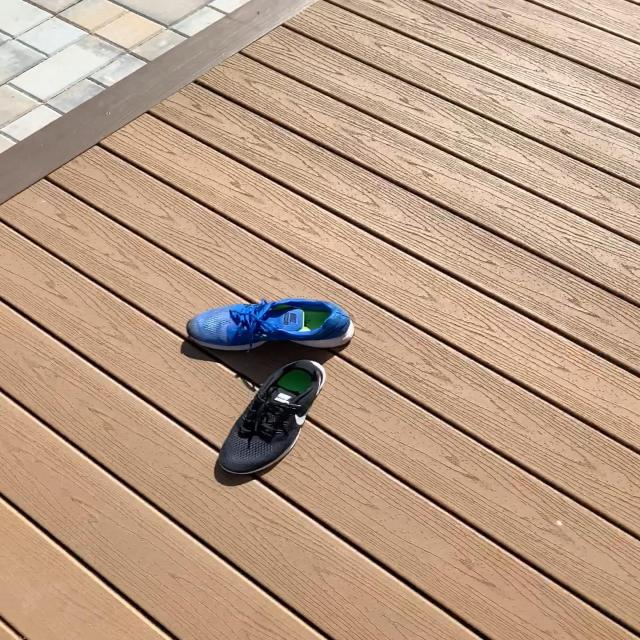shoe: (215, 362, 326, 488), (182, 299, 353, 353)
